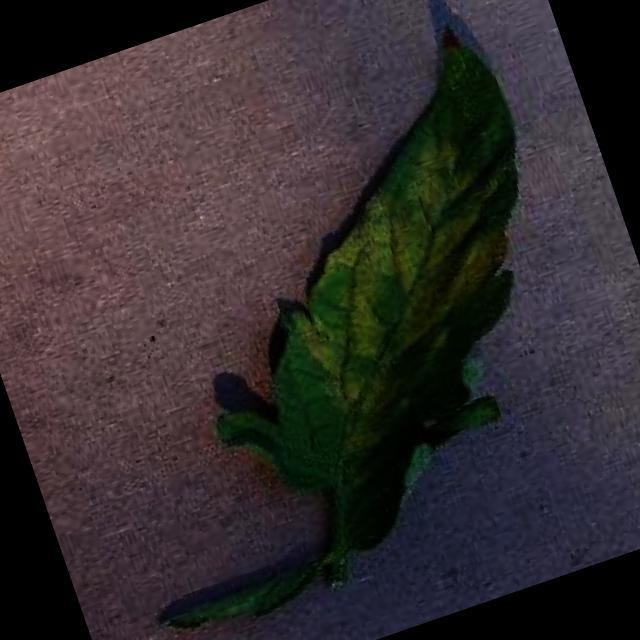Tomato mold leaf: (121, 16, 631, 575)
